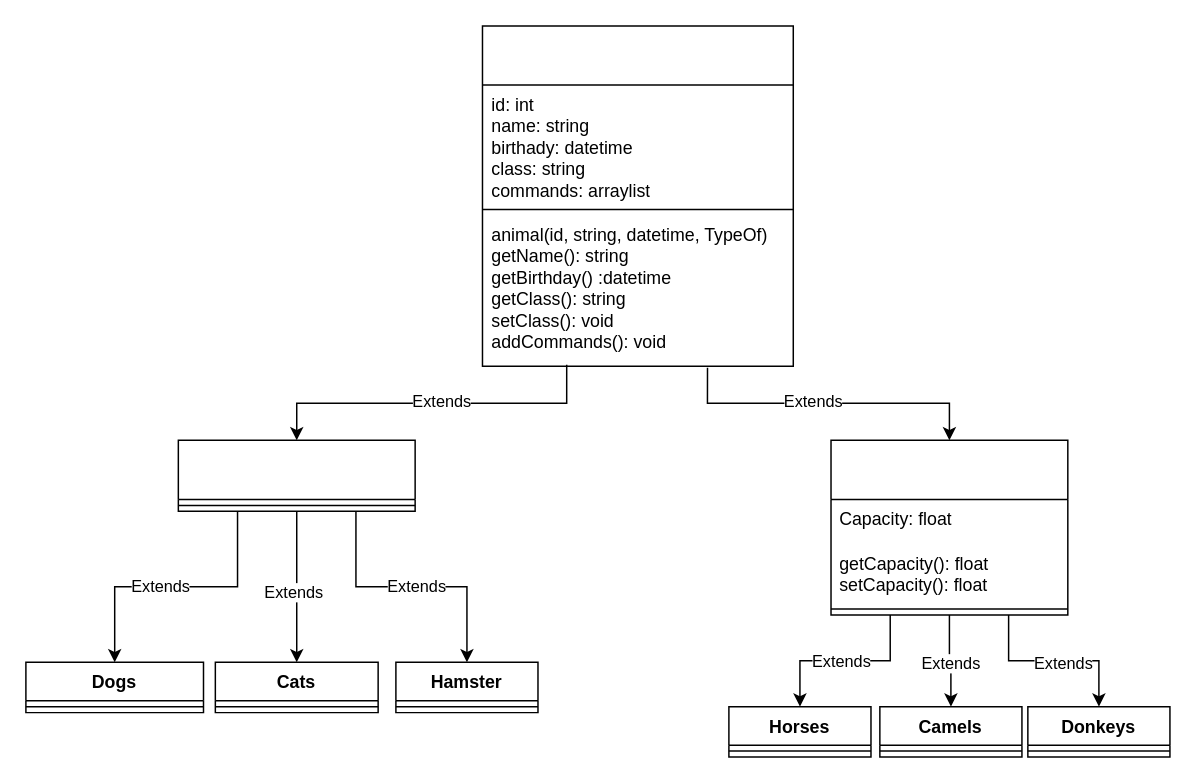
Image size: 1196x783. Some labels were removed from this diagram. Here are the shapes that lost their labels. From the top down, the box of each, then its label:
(481, 24, 793, 366): Animals (abstract)
(177, 439, 415, 511): Pets (abstract)
(830, 439, 1068, 615): PackAnimals (abstract)
